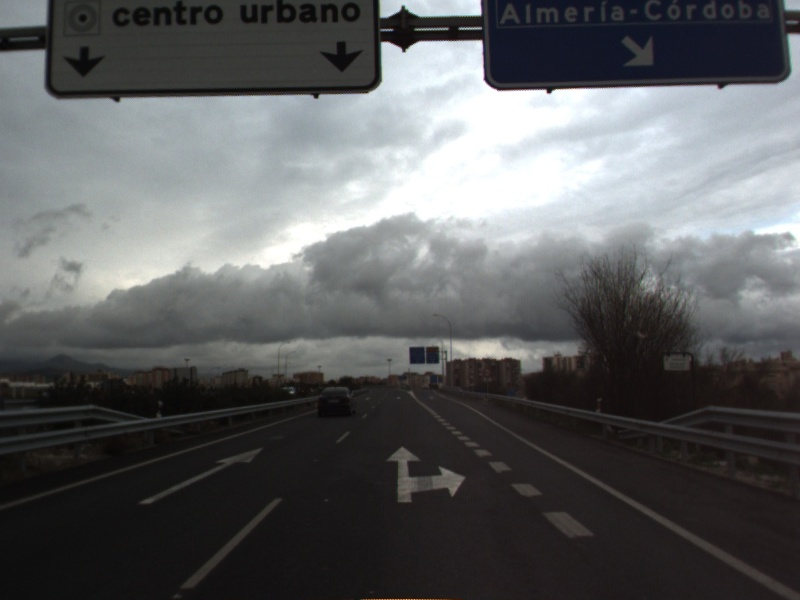STRAIGHT: (136, 445, 266, 506)
STRAIGHT_RIGHT: (383, 444, 468, 505)
